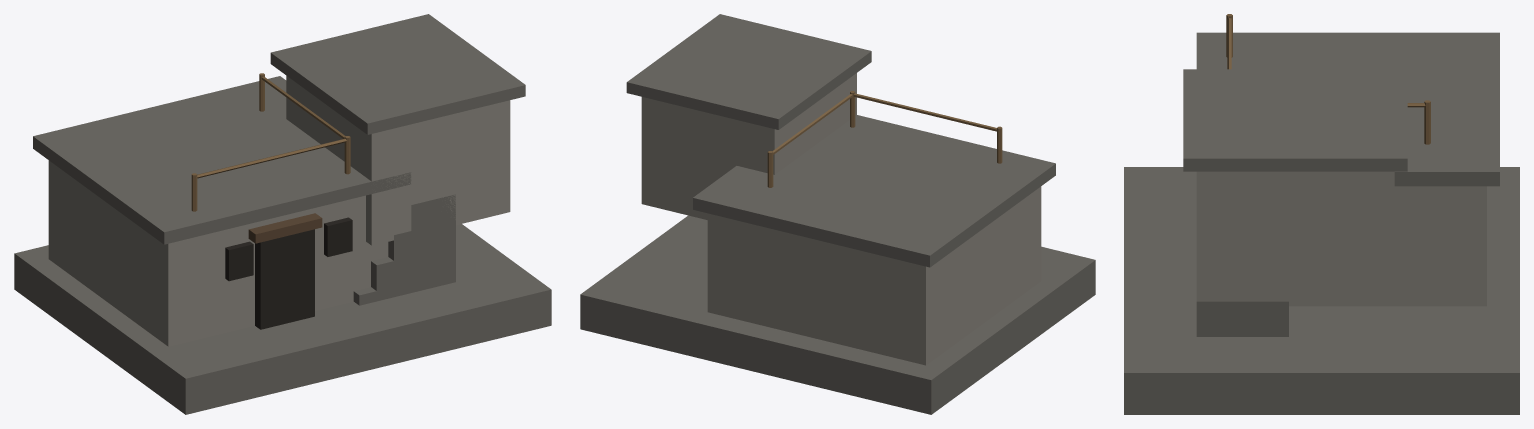
File: S_TerraceHouse.glb
3 views of the same model, side by side, from view 1: azimuth 30°, elevation 25°; view 2: azimuth 150°, elevation 25°; view 3: azimuth 270°, elevation 25° (orthographic). The views are drawn at different scales.
Parts seen in each view (by area): view 1: S_TerraceHouse; view 2: S_TerraceHouse; view 3: S_TerraceHouse.
Boxes of the visible parts, bbox=[...] form: S_TerraceHouse: bbox=[14, 14, 551, 414]; S_TerraceHouse: bbox=[580, 14, 1095, 414]; S_TerraceHouse: bbox=[1124, 14, 1519, 414].
Bounding box in the file's own units: 7.4 × 4.29 × 6.
